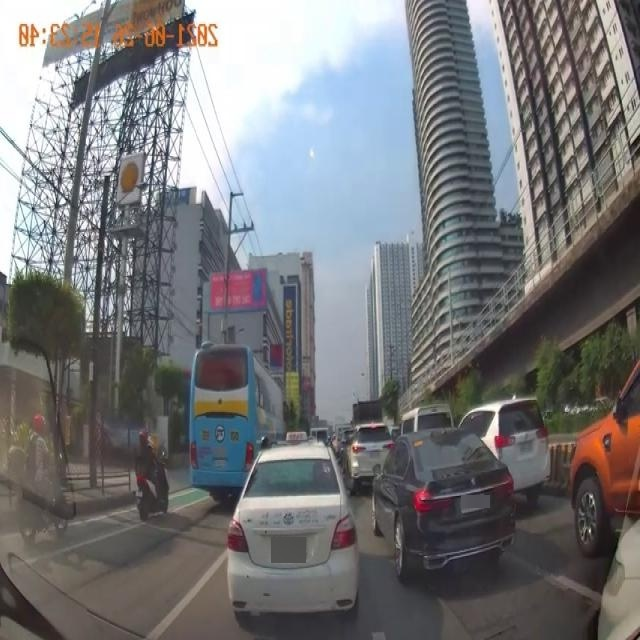bus: (181, 342, 287, 516)
car: (221, 438, 362, 614), (368, 423, 504, 586), (462, 391, 542, 499), (345, 416, 391, 496)
motorcycle: (15, 407, 70, 551), (126, 428, 169, 526)
